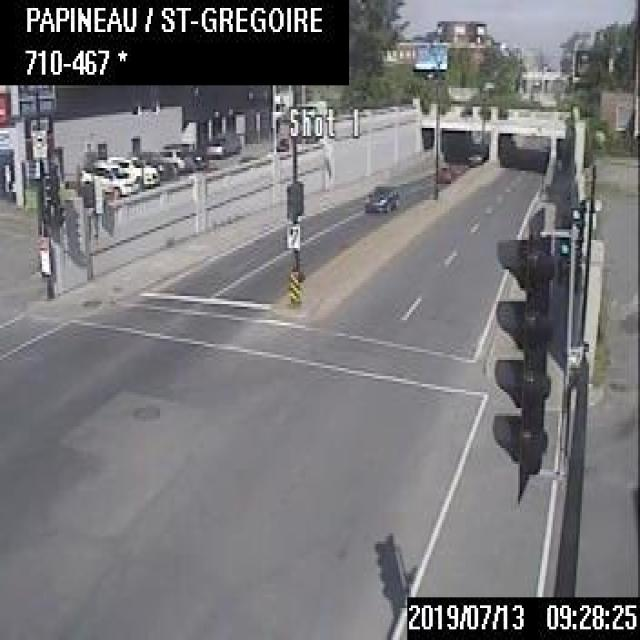vehicle: (78, 157, 136, 197), (112, 152, 158, 190), (154, 142, 192, 174), (139, 150, 175, 178), (204, 130, 241, 157), (364, 181, 396, 211), (187, 147, 206, 167), (432, 162, 452, 178)
